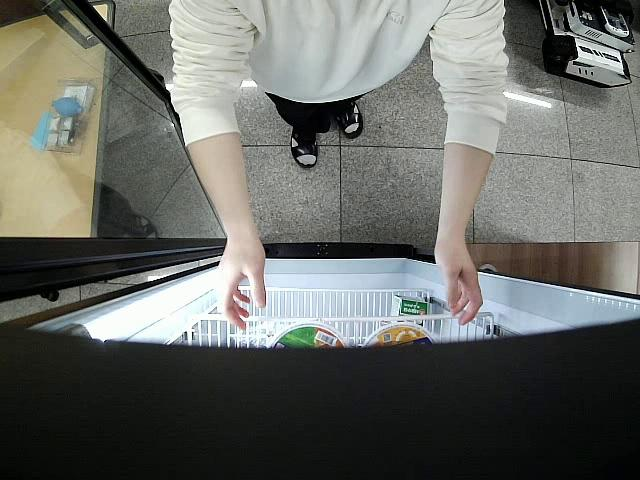00_hand: (215, 235, 267, 331), (433, 238, 483, 325)
